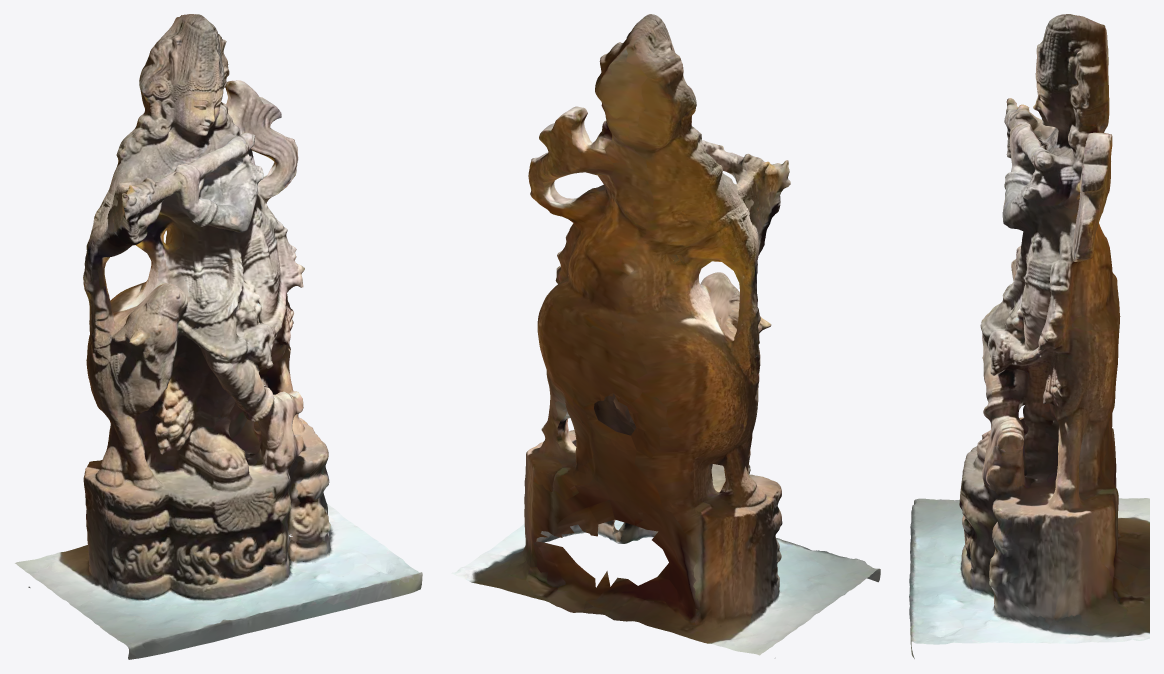
Rendered from lord_krishna_playing_the_flute_at_csmvs-transformed.glb.
3 renders of one model, left to right at view 1: azimuth 30°, elevation 25°; view 2: azimuth 150°, elevation 25°; view 3: azimuth 270°, elevation 25°, orthographic. The views are drawn at different scales.
Parts seen in each view (by area): view 1: Object_2; view 2: Object_2; view 3: Object_2.
Part boxes in pixels (box(x1,y1,x2,y2)): Object_2: box(15, 14, 422, 659); Object_2: box(451, 14, 880, 655); Object_2: box(909, 14, 1149, 658).
Size of the model in its own units: 0.7705 by 1.4 by 0.5333.
Materials: 1 (1 with a texture image).
